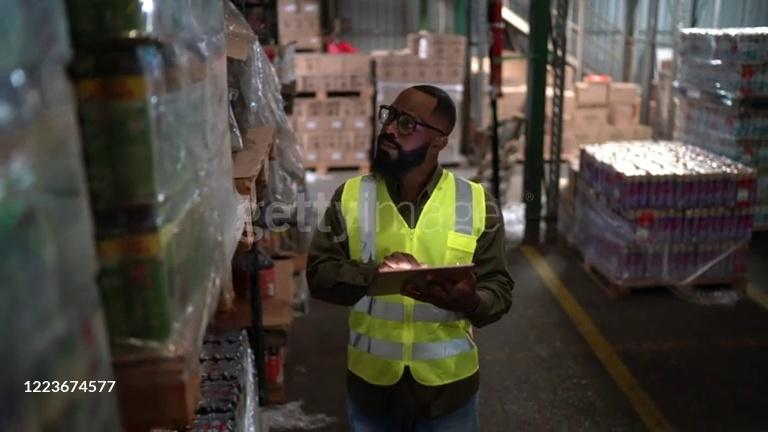person: (305, 85, 516, 432)
